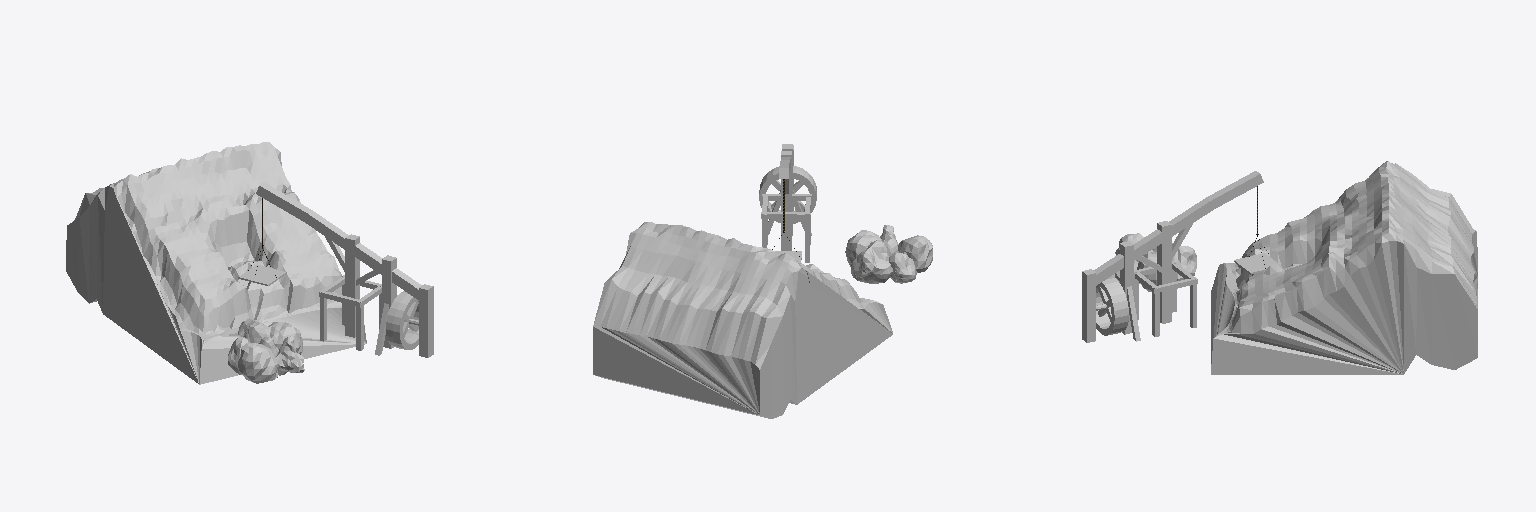
The picture shows the model from 3 angles: view 1: azimuth 30°, elevation 25°; view 2: azimuth 150°, elevation 25°; view 3: azimuth 270°, elevation 25°; orthographic projection.
Visible parts, largest first — view 1: Cube.017, Cube.011, Torus.001, rock.006, Cube, Cube.010, rock.008, Cube.009, rock.005, Cube.012, rock.001; view 2: Cube.017, rock.001, Torus.001, rock.006, Cube, rock.003, rock.005; view 3: Cube.017, Cube.011, Torus.001, Cube, Cube.010, Cube.009, Cube.012.
Boxes of the visible parts, x1,y1,x2,y2 form: Cube.017: [66, 142, 366, 384]; Cube.011: [256, 182, 421, 299]; Torus.001: [386, 291, 418, 349]; rock.006: [238, 343, 278, 383]; Cube: [345, 234, 359, 337]; Cube.010: [419, 284, 433, 357]; rock.008: [276, 336, 304, 375]; Cube.009: [382, 255, 396, 348]; rock.005: [268, 322, 302, 354]; Cube.012: [238, 265, 286, 285]; rock.001: [238, 318, 269, 343]; Cube.017: [593, 222, 892, 418]; rock.001: [851, 240, 892, 283]; Torus.001: [759, 166, 816, 223]; rock.006: [898, 235, 932, 272]; Cube: [781, 151, 791, 250]; rock.003: [889, 253, 916, 283]; rock.005: [845, 230, 881, 266]; Cube.017: [1211, 161, 1477, 374]; Cube.011: [1093, 171, 1263, 285]; Torus.001: [1096, 276, 1128, 335]; Cube: [1157, 221, 1171, 323]; Cube.010: [1082, 269, 1095, 342]; Cube.009: [1120, 241, 1133, 334]; Cube.012: [1234, 253, 1280, 274].
Bounding box in the file's own units: 49.47 × 42.13 × 92.98.
4 materials, 1 textured.